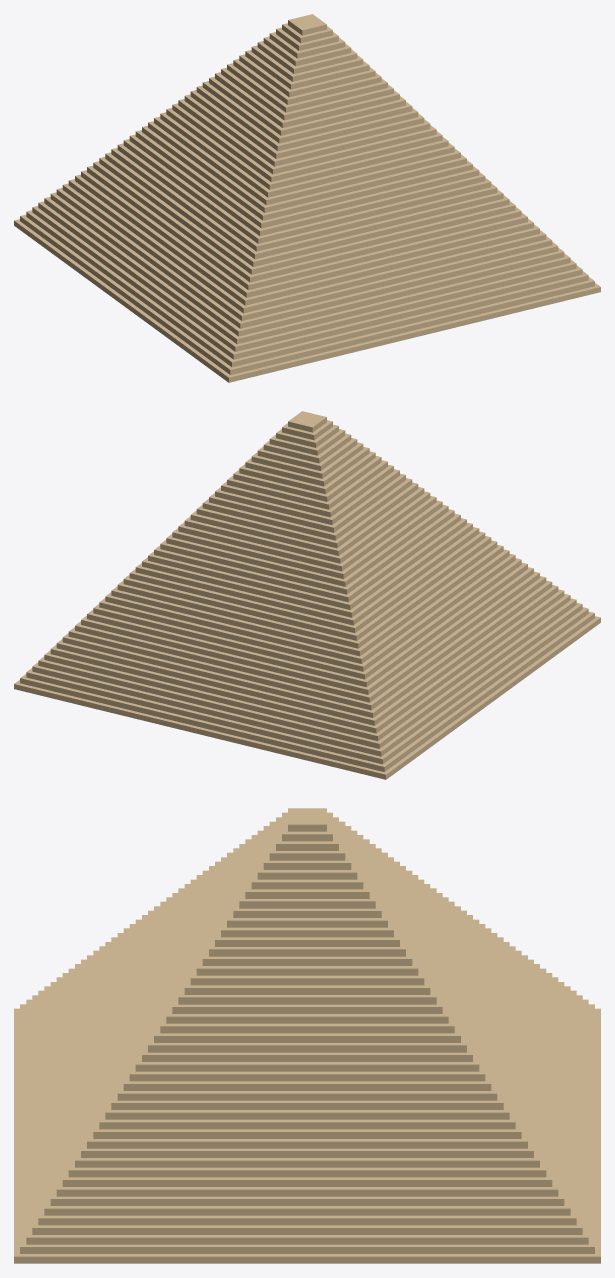
The model's file is giza-great-pyramid.glb.
The picture shows the model from 3 angles, top to bottom: view 1: azimuth 30°, elevation 25°; view 2: azimuth 150°, elevation 25°; view 3: azimuth 270°, elevation 25°; orthographic projection. The views are drawn at different scales.
Parts seen in each view (by area): view 1: Great Pyramid of Giza; view 2: Great Pyramid of Giza; view 3: Great Pyramid of Giza.
Boxes of the visible parts, <box> form: Great Pyramid of Giza: <box>14,14,600,382</box>; Great Pyramid of Giza: <box>14,411,600,779</box>; Great Pyramid of Giza: <box>14,808,600,1263</box>.
Size of the model in its own units: 228 by 138 by 228.
